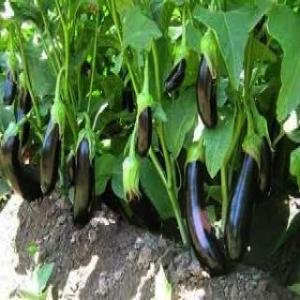eggplant: (186, 142, 226, 268), (226, 138, 260, 260), (41, 99, 65, 193), (74, 124, 96, 224), (197, 35, 219, 125), (138, 79, 152, 155), (166, 52, 188, 88)
